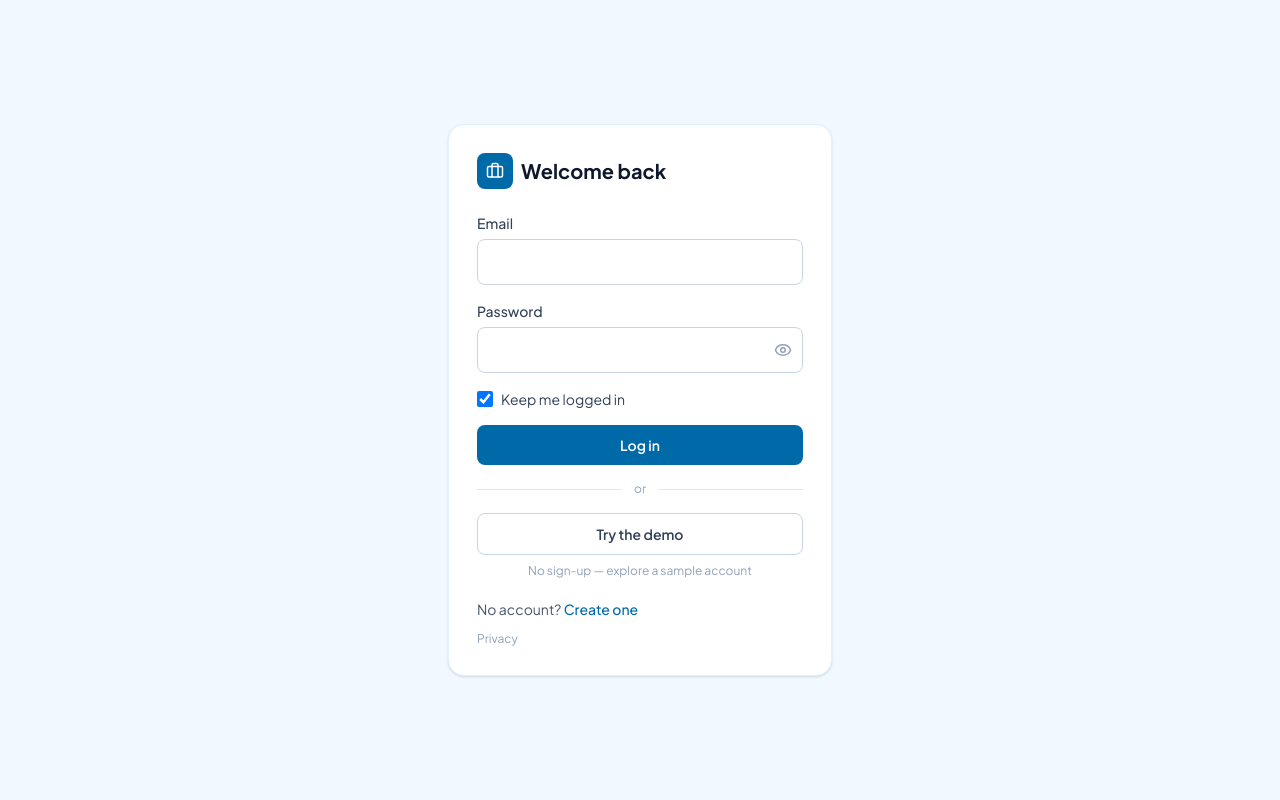
Test: logging in stores the session and navigates to the dashboard
Type "ada@x.com" into the field labelled "Email". click: (640, 262)
box: x1=477 y1=239 x2=803 y2=285
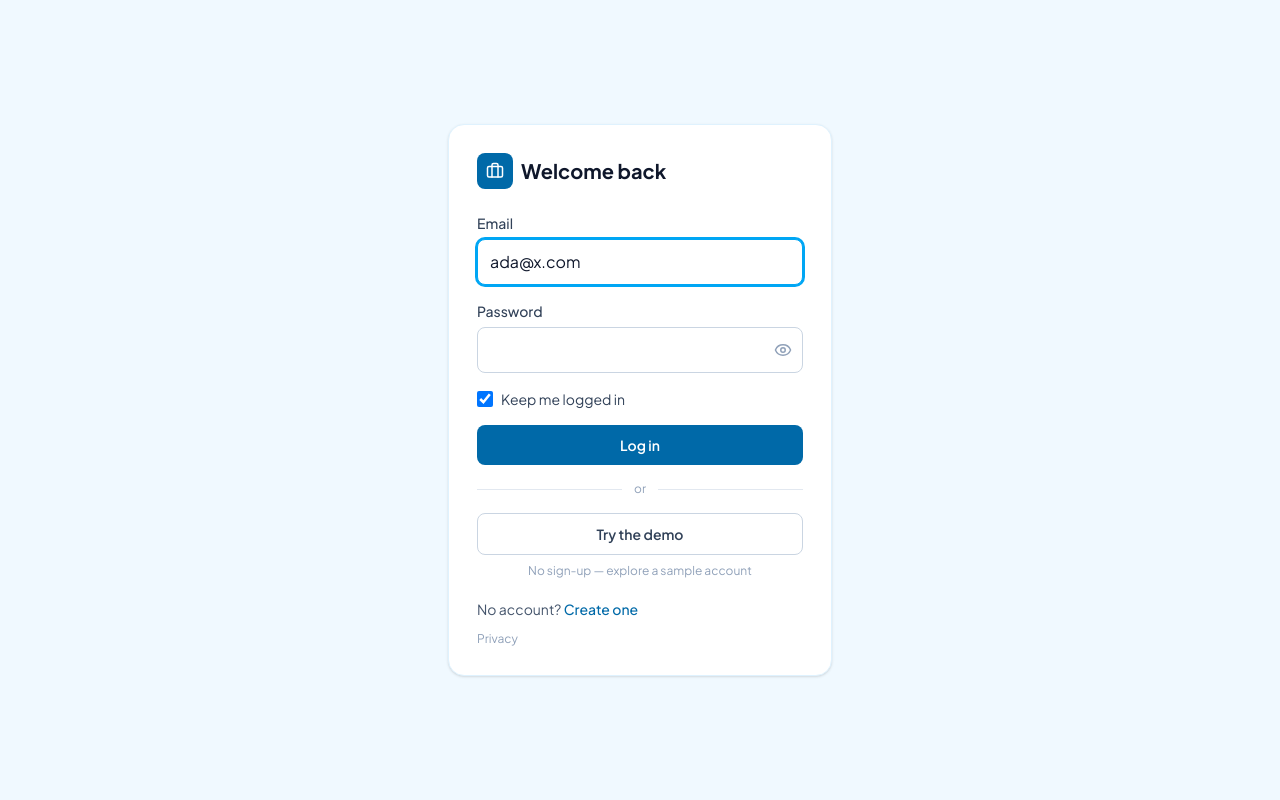
Type "Password123" into the password field labelled "Password". click: (640, 350)
box: x1=477 y1=327 x2=803 y2=373
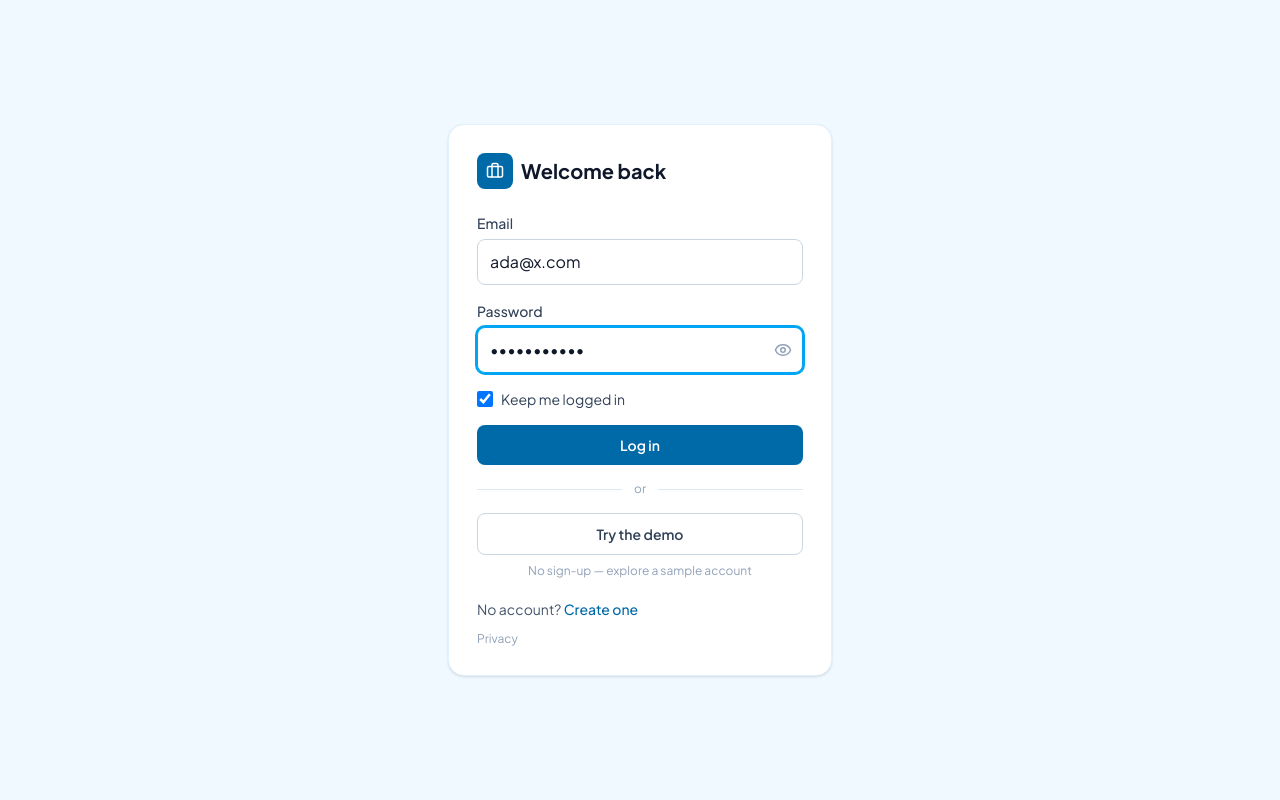
Click the button "Log in". click: (640, 445)
box: x1=477 y1=425 x2=803 y2=465
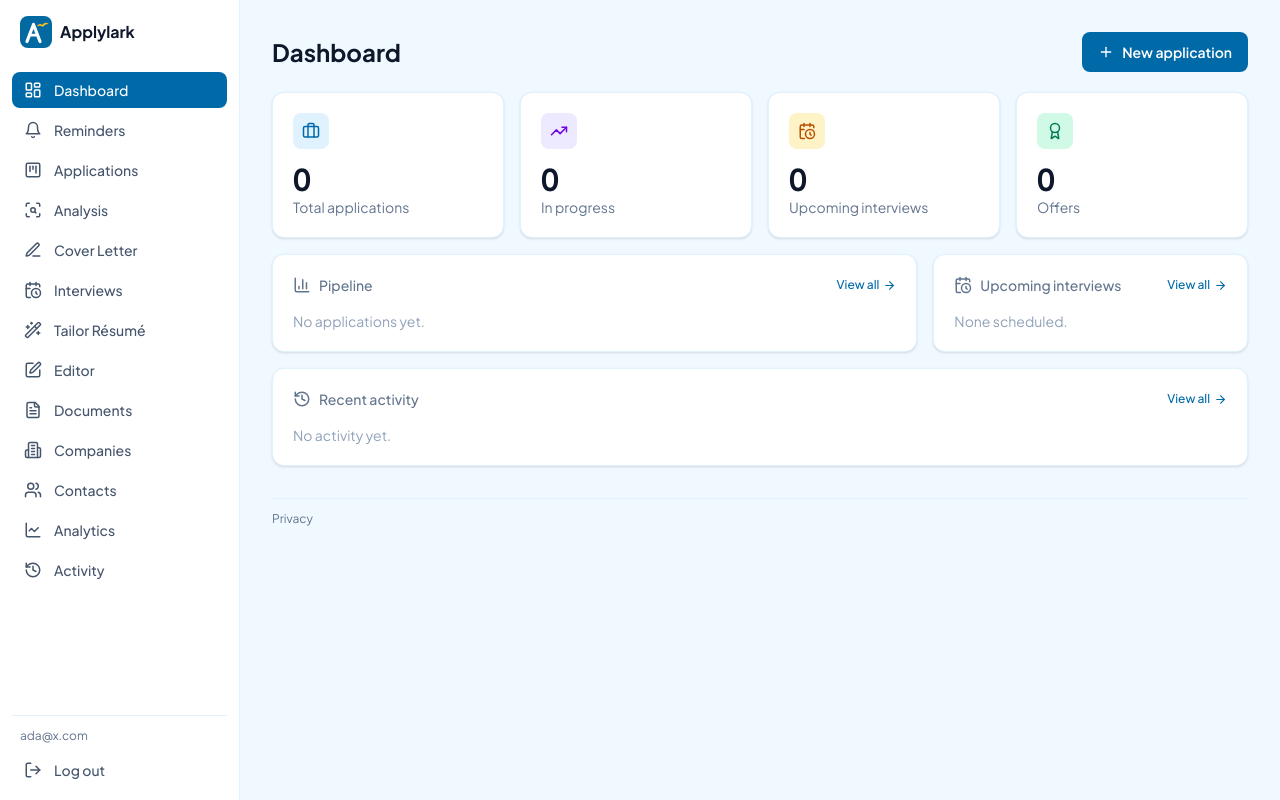
Now the heading "Dashboard" is shown, box x1=272 y1=36 x2=401 y2=68
